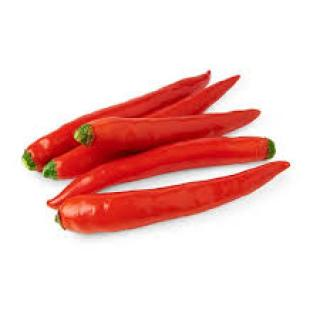Cabai Merah: (47, 73, 292, 237), (19, 71, 243, 179)
